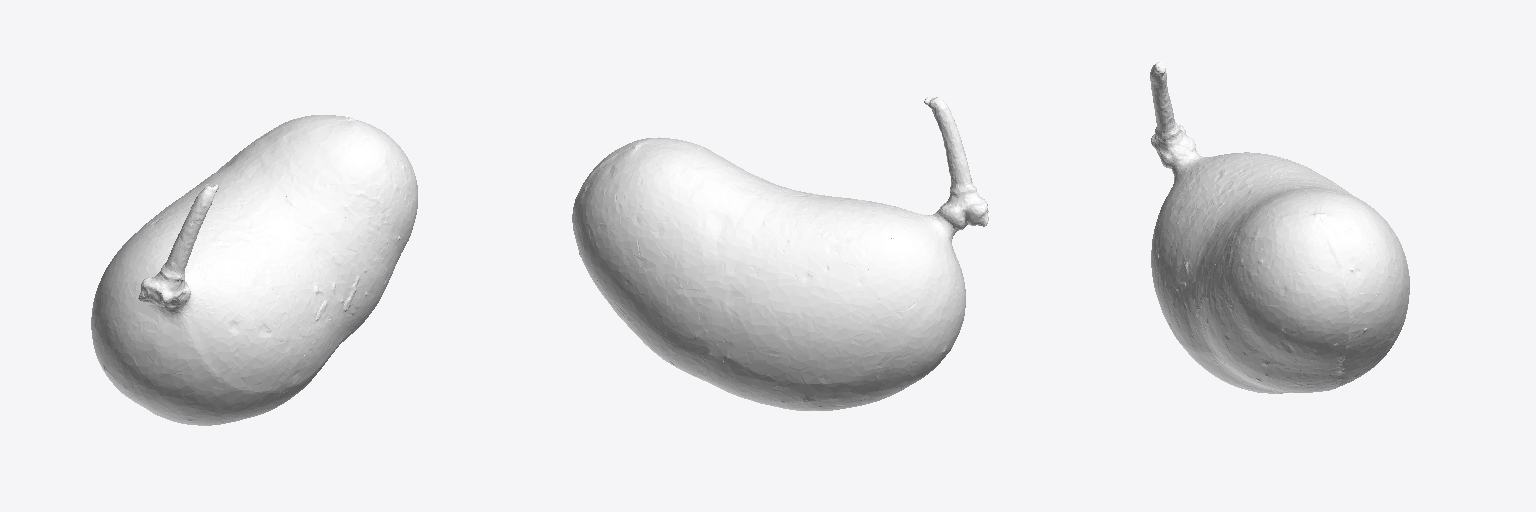
Rendered from pawpaw-fruit-sketchfab.obj.
3 renders of one model, left to right at view 1: azimuth 30°, elevation 25°; view 2: azimuth 150°, elevation 25°; view 3: azimuth 270°, elevation 25°, orthographic.
Bounding box in the file's own units: 76.01 × 60.43 × 50.7.